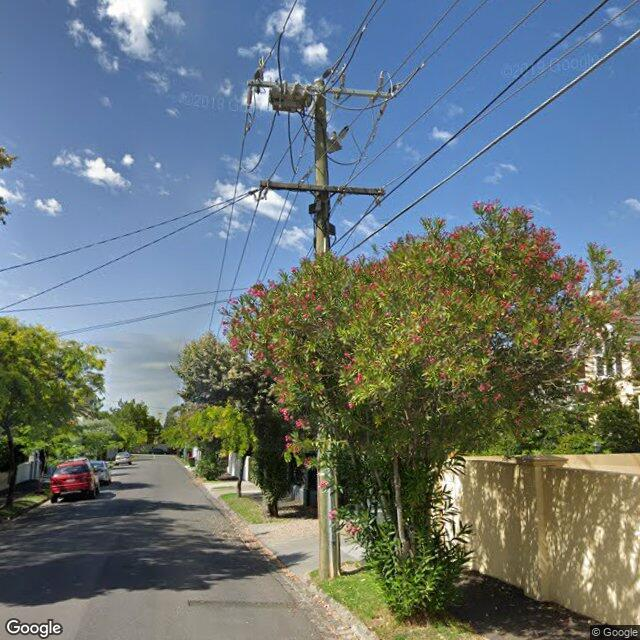HV-transmission: (246, 56, 425, 114)
crossarm: (259, 179, 387, 207), (248, 78, 394, 100)
timber-pole: (314, 79, 342, 578)
